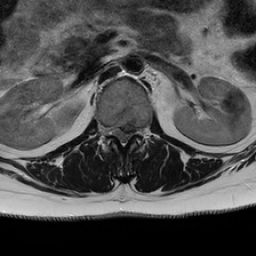CCS_normal: (118, 116, 125, 154)
LFS_stenosis: (133, 116, 141, 142)
LLS_stenosis: (125, 117, 133, 145)
RFS_normal: (104, 115, 112, 142)
RLS_normal: (112, 116, 118, 145)
